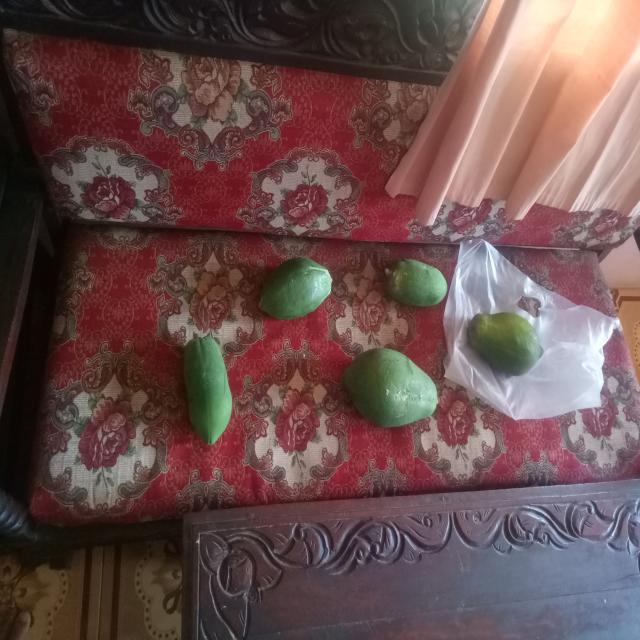Pepaya unrippen: (337, 356, 459, 441), (242, 258, 341, 334), (164, 339, 235, 443), (465, 315, 545, 380), (377, 251, 456, 308)
